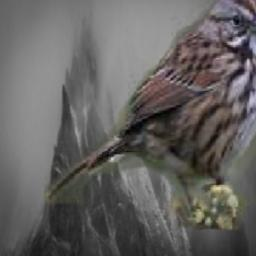Sparrow: (44, 0, 256, 231)
